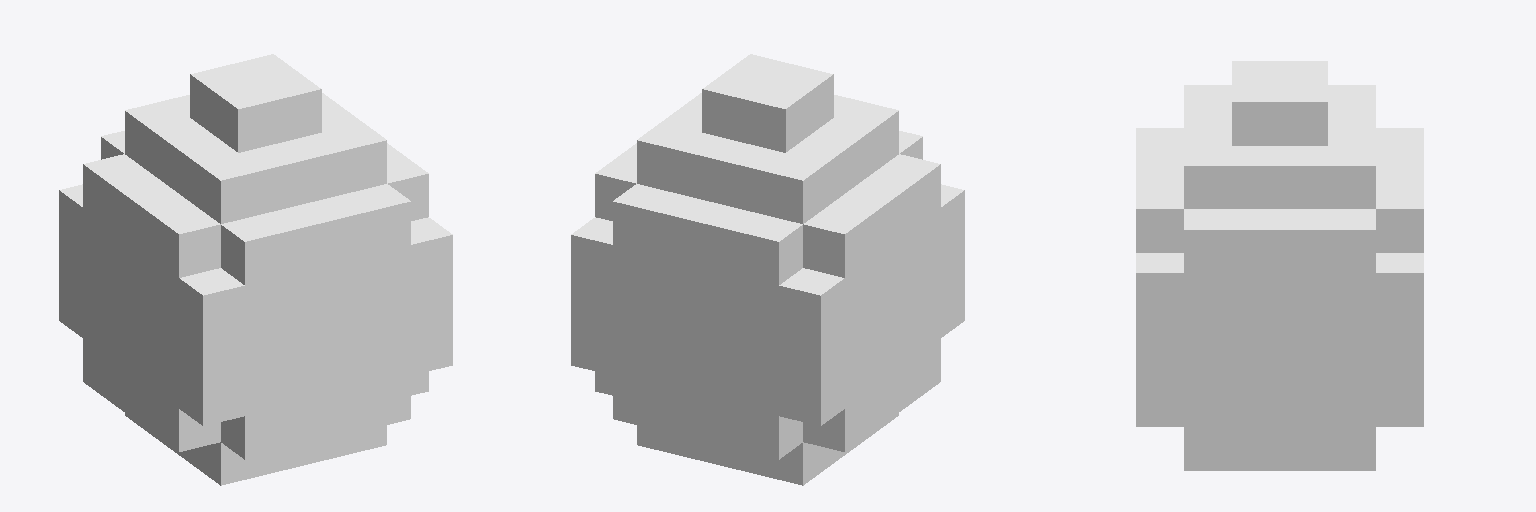
The model's file is eggo.obj.
3 views of the same model, side by side, from view 1: azimuth 30°, elevation 25°; view 2: azimuth 150°, elevation 25°; view 3: azimuth 270°, elevation 25° (orthographic).
Parts seen in each view (by area): view 1: object 1; view 2: object 1; view 3: object 1.
Boxes of the visible parts, <box> form: object 1: <box>59,54,452,485</box>; object 1: <box>571,54,964,485</box>; object 1: <box>1136,61,1423,470</box>.
Size of the model in its own units: 0.6 by 0.8 by 0.6.